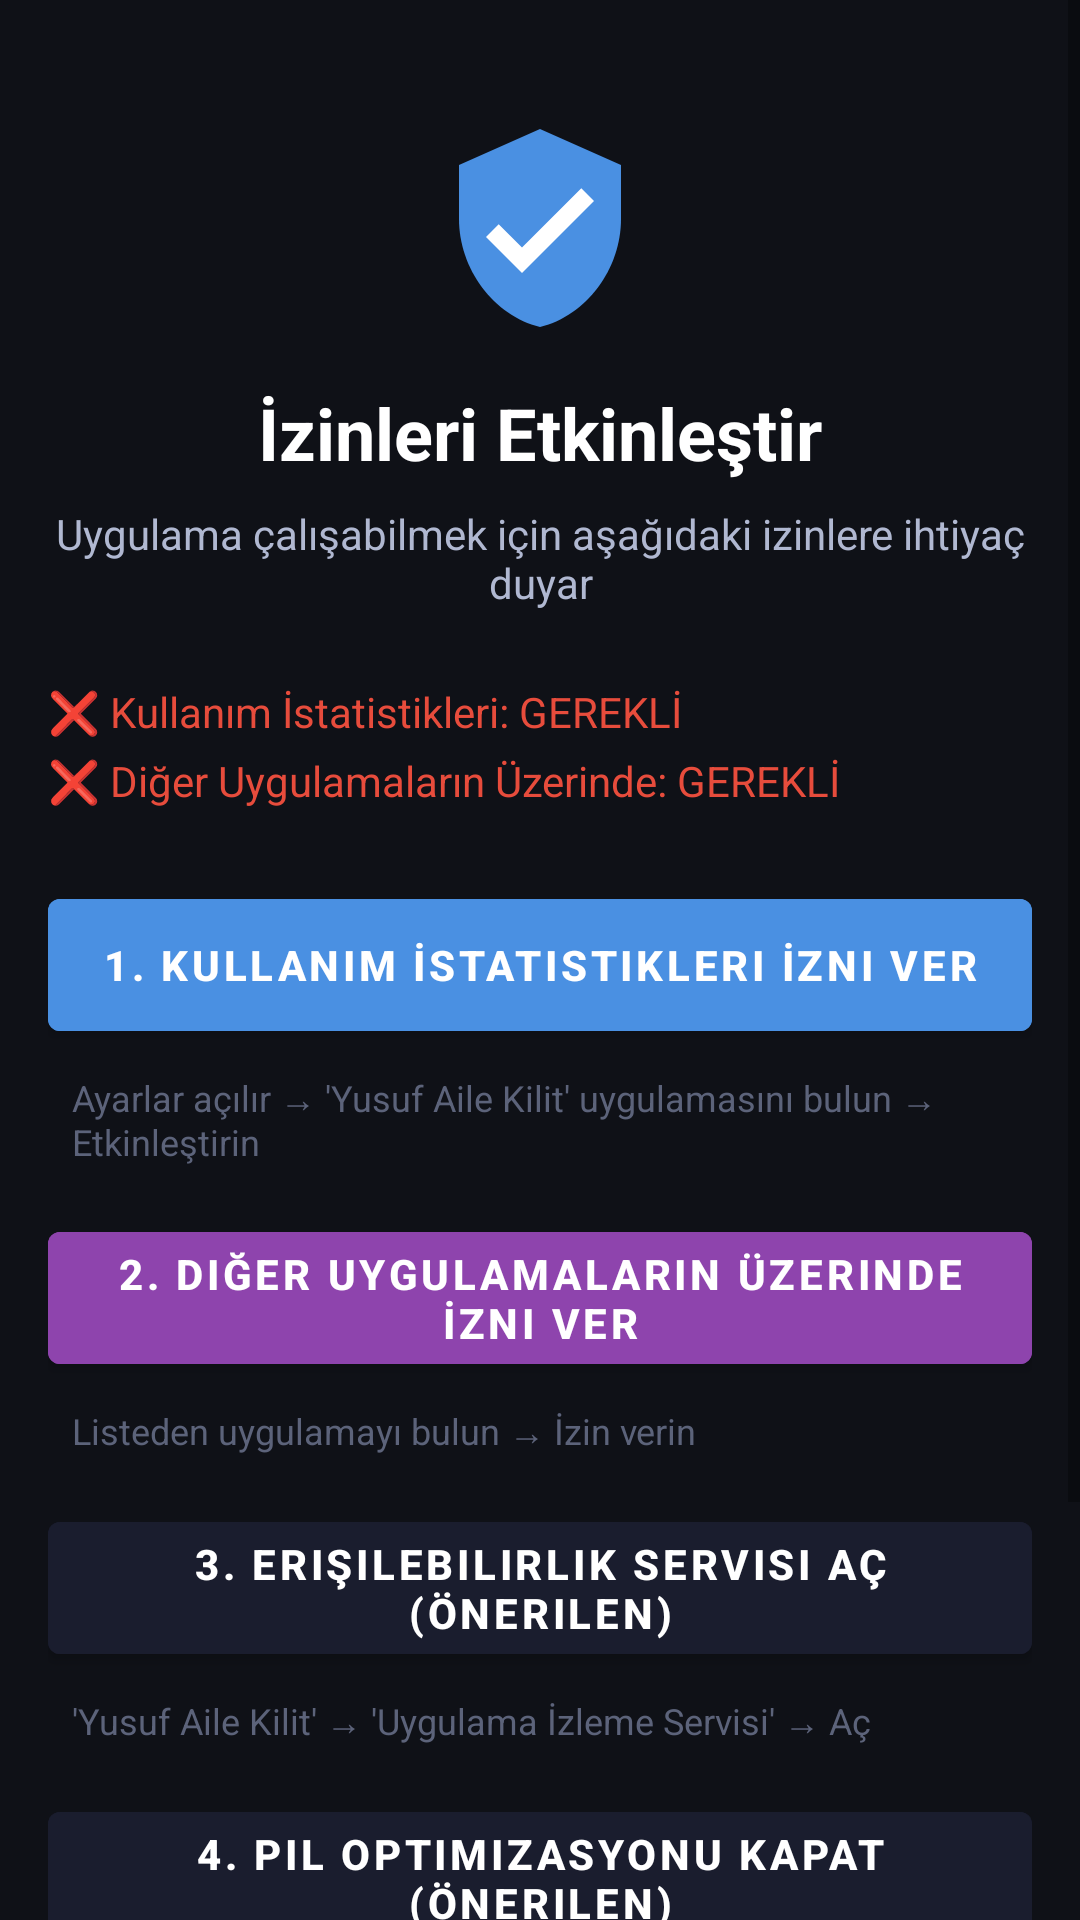

Where icons sit on this 1080×1920 app screen, as detection(x1, y1, x2, y2):
shield: detection(459, 129, 621, 327)
